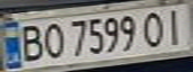5: (84, 16, 106, 55)
7: (66, 17, 87, 56)
9: (118, 12, 142, 52), (103, 15, 124, 54)
B: (15, 21, 45, 63)
I: (160, 6, 190, 46)
O: (139, 9, 169, 48), (39, 20, 66, 60)
